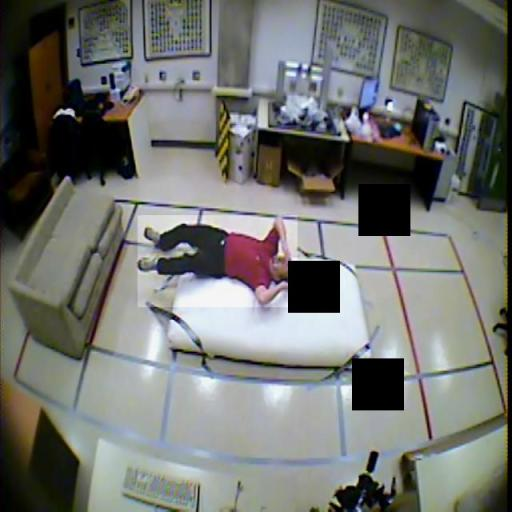Fall: (138, 215, 298, 307)
